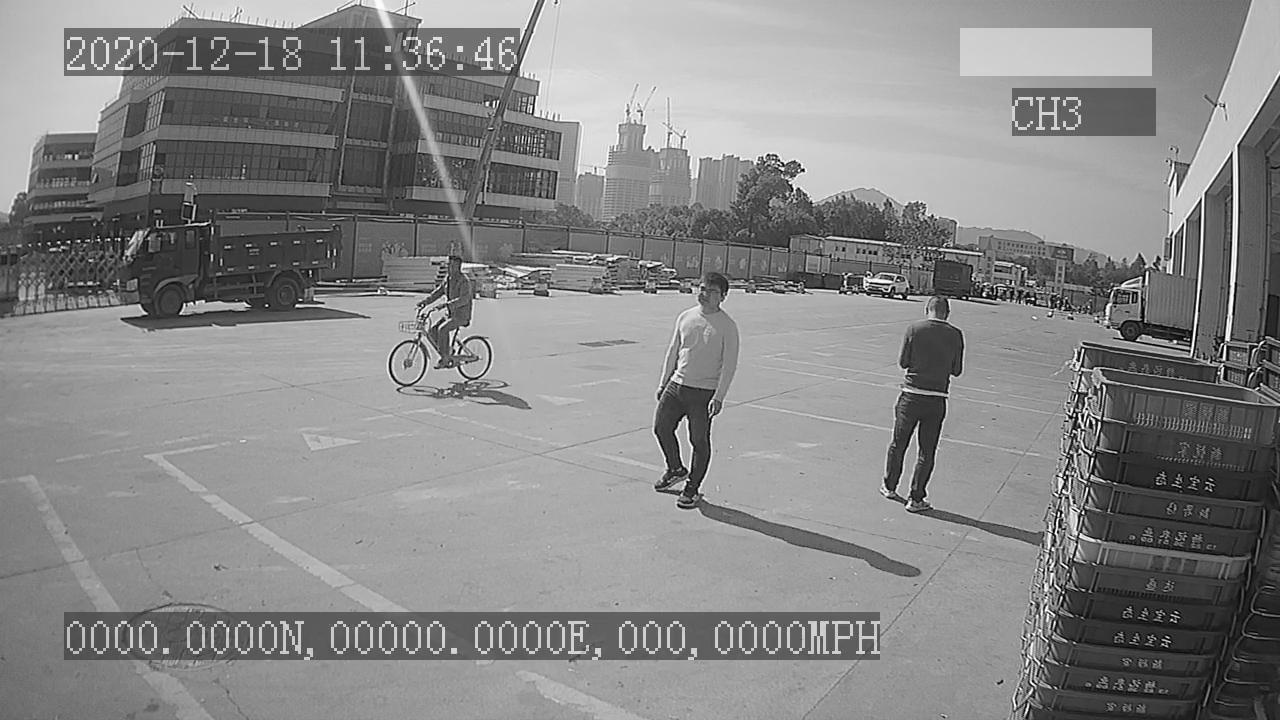person: (651, 265, 740, 510), (878, 291, 965, 511)
